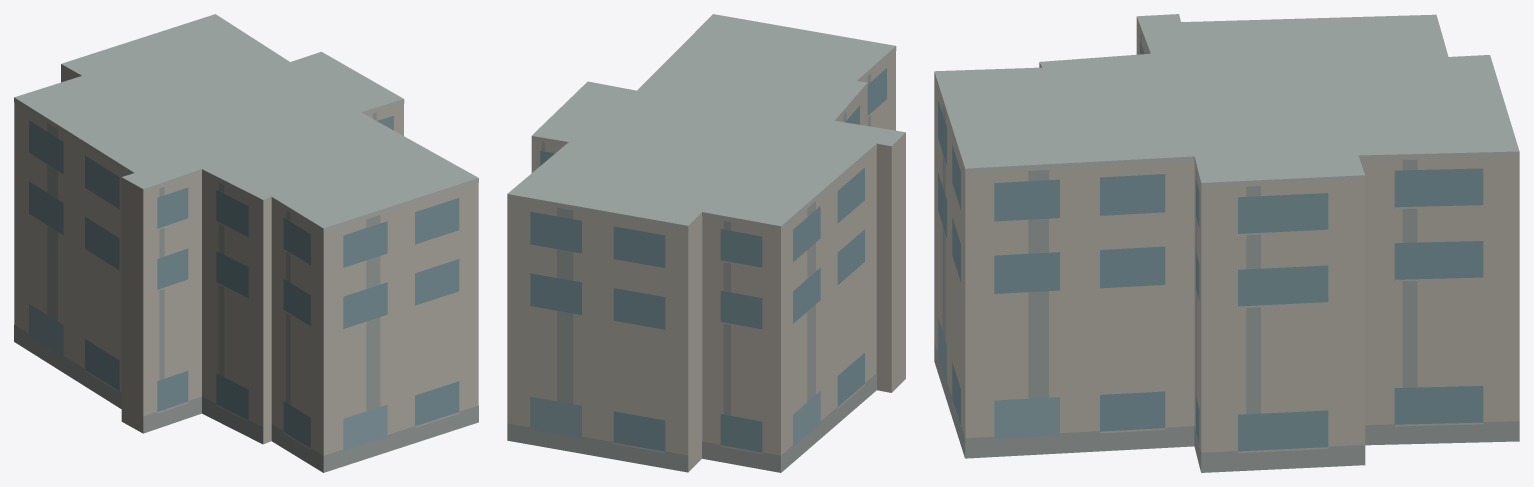
The model's file is survey-upis-32955274.glb.
The picture shows the model from 3 angles, left to right: view 1: azimuth 30°, elevation 25°; view 2: azimuth 150°, elevation 25°; view 3: azimuth 270°, elevation 25°; orthographic projection. The views are drawn at different scales.
Visible parts, largest first — view 1: survey-upis-32955274.tmp; view 2: survey-upis-32955274.tmp; view 3: survey-upis-32955274.tmp.
Part boxes in pixels (box(x1,y1,x2,y2)): survey-upis-32955274.tmp: box(14, 14, 478, 472); survey-upis-32955274.tmp: box(507, 14, 905, 472); survey-upis-32955274.tmp: box(934, 14, 1519, 472).
Bounding box in the file's own units: 15.26 × 12.2 × 22.33.
